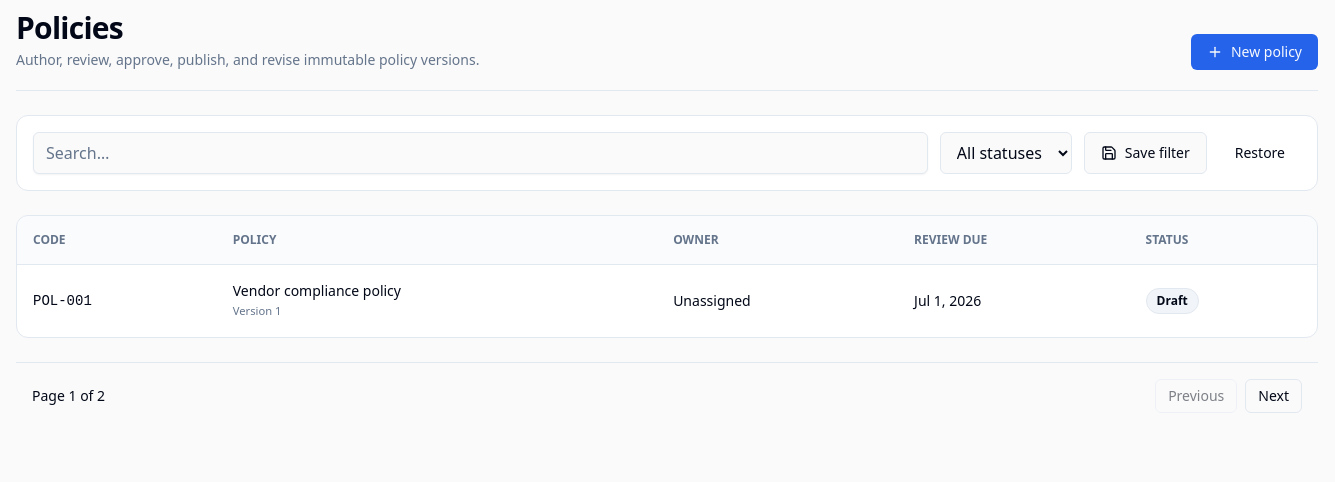
compliance management pages › filters the policy list, renders owner fallbacks, and reports empty guided creation
Check: the link "Vendor compliance policy" is shown, box [233,281,401,300]
Check: the text "Unassigned" is shown, box [657,264,898,337]
Select "published" in the dropdown named "Policy status" at x=1006, y=153, box [940,132,1072,174]
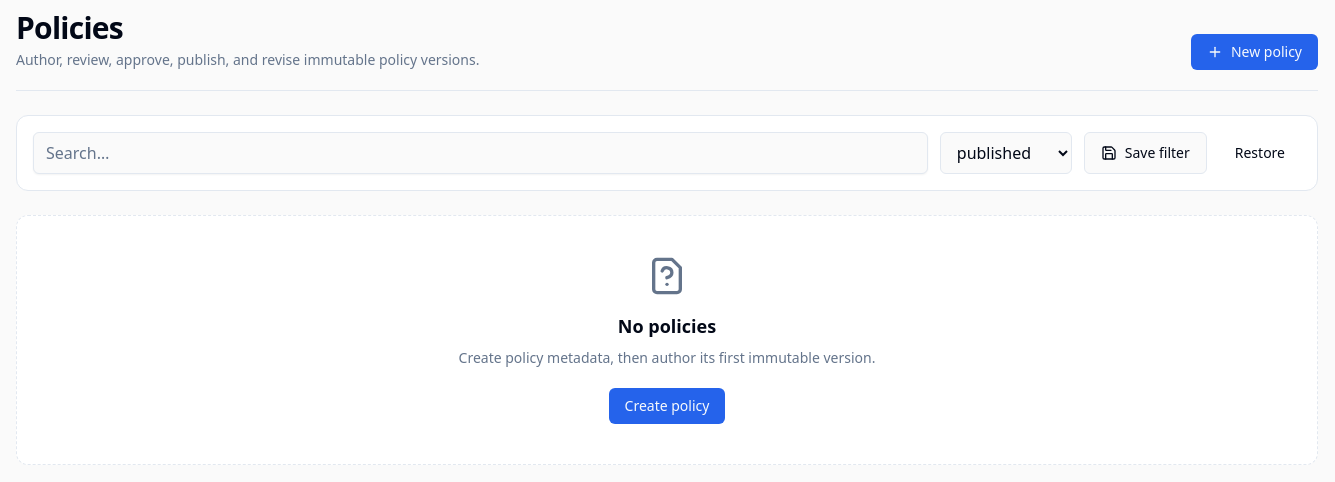
Check: the heading "No policies" is shown, box [618,314,716,338]
Check: the button "Create policy" is enabled, box [609,388,726,424]
